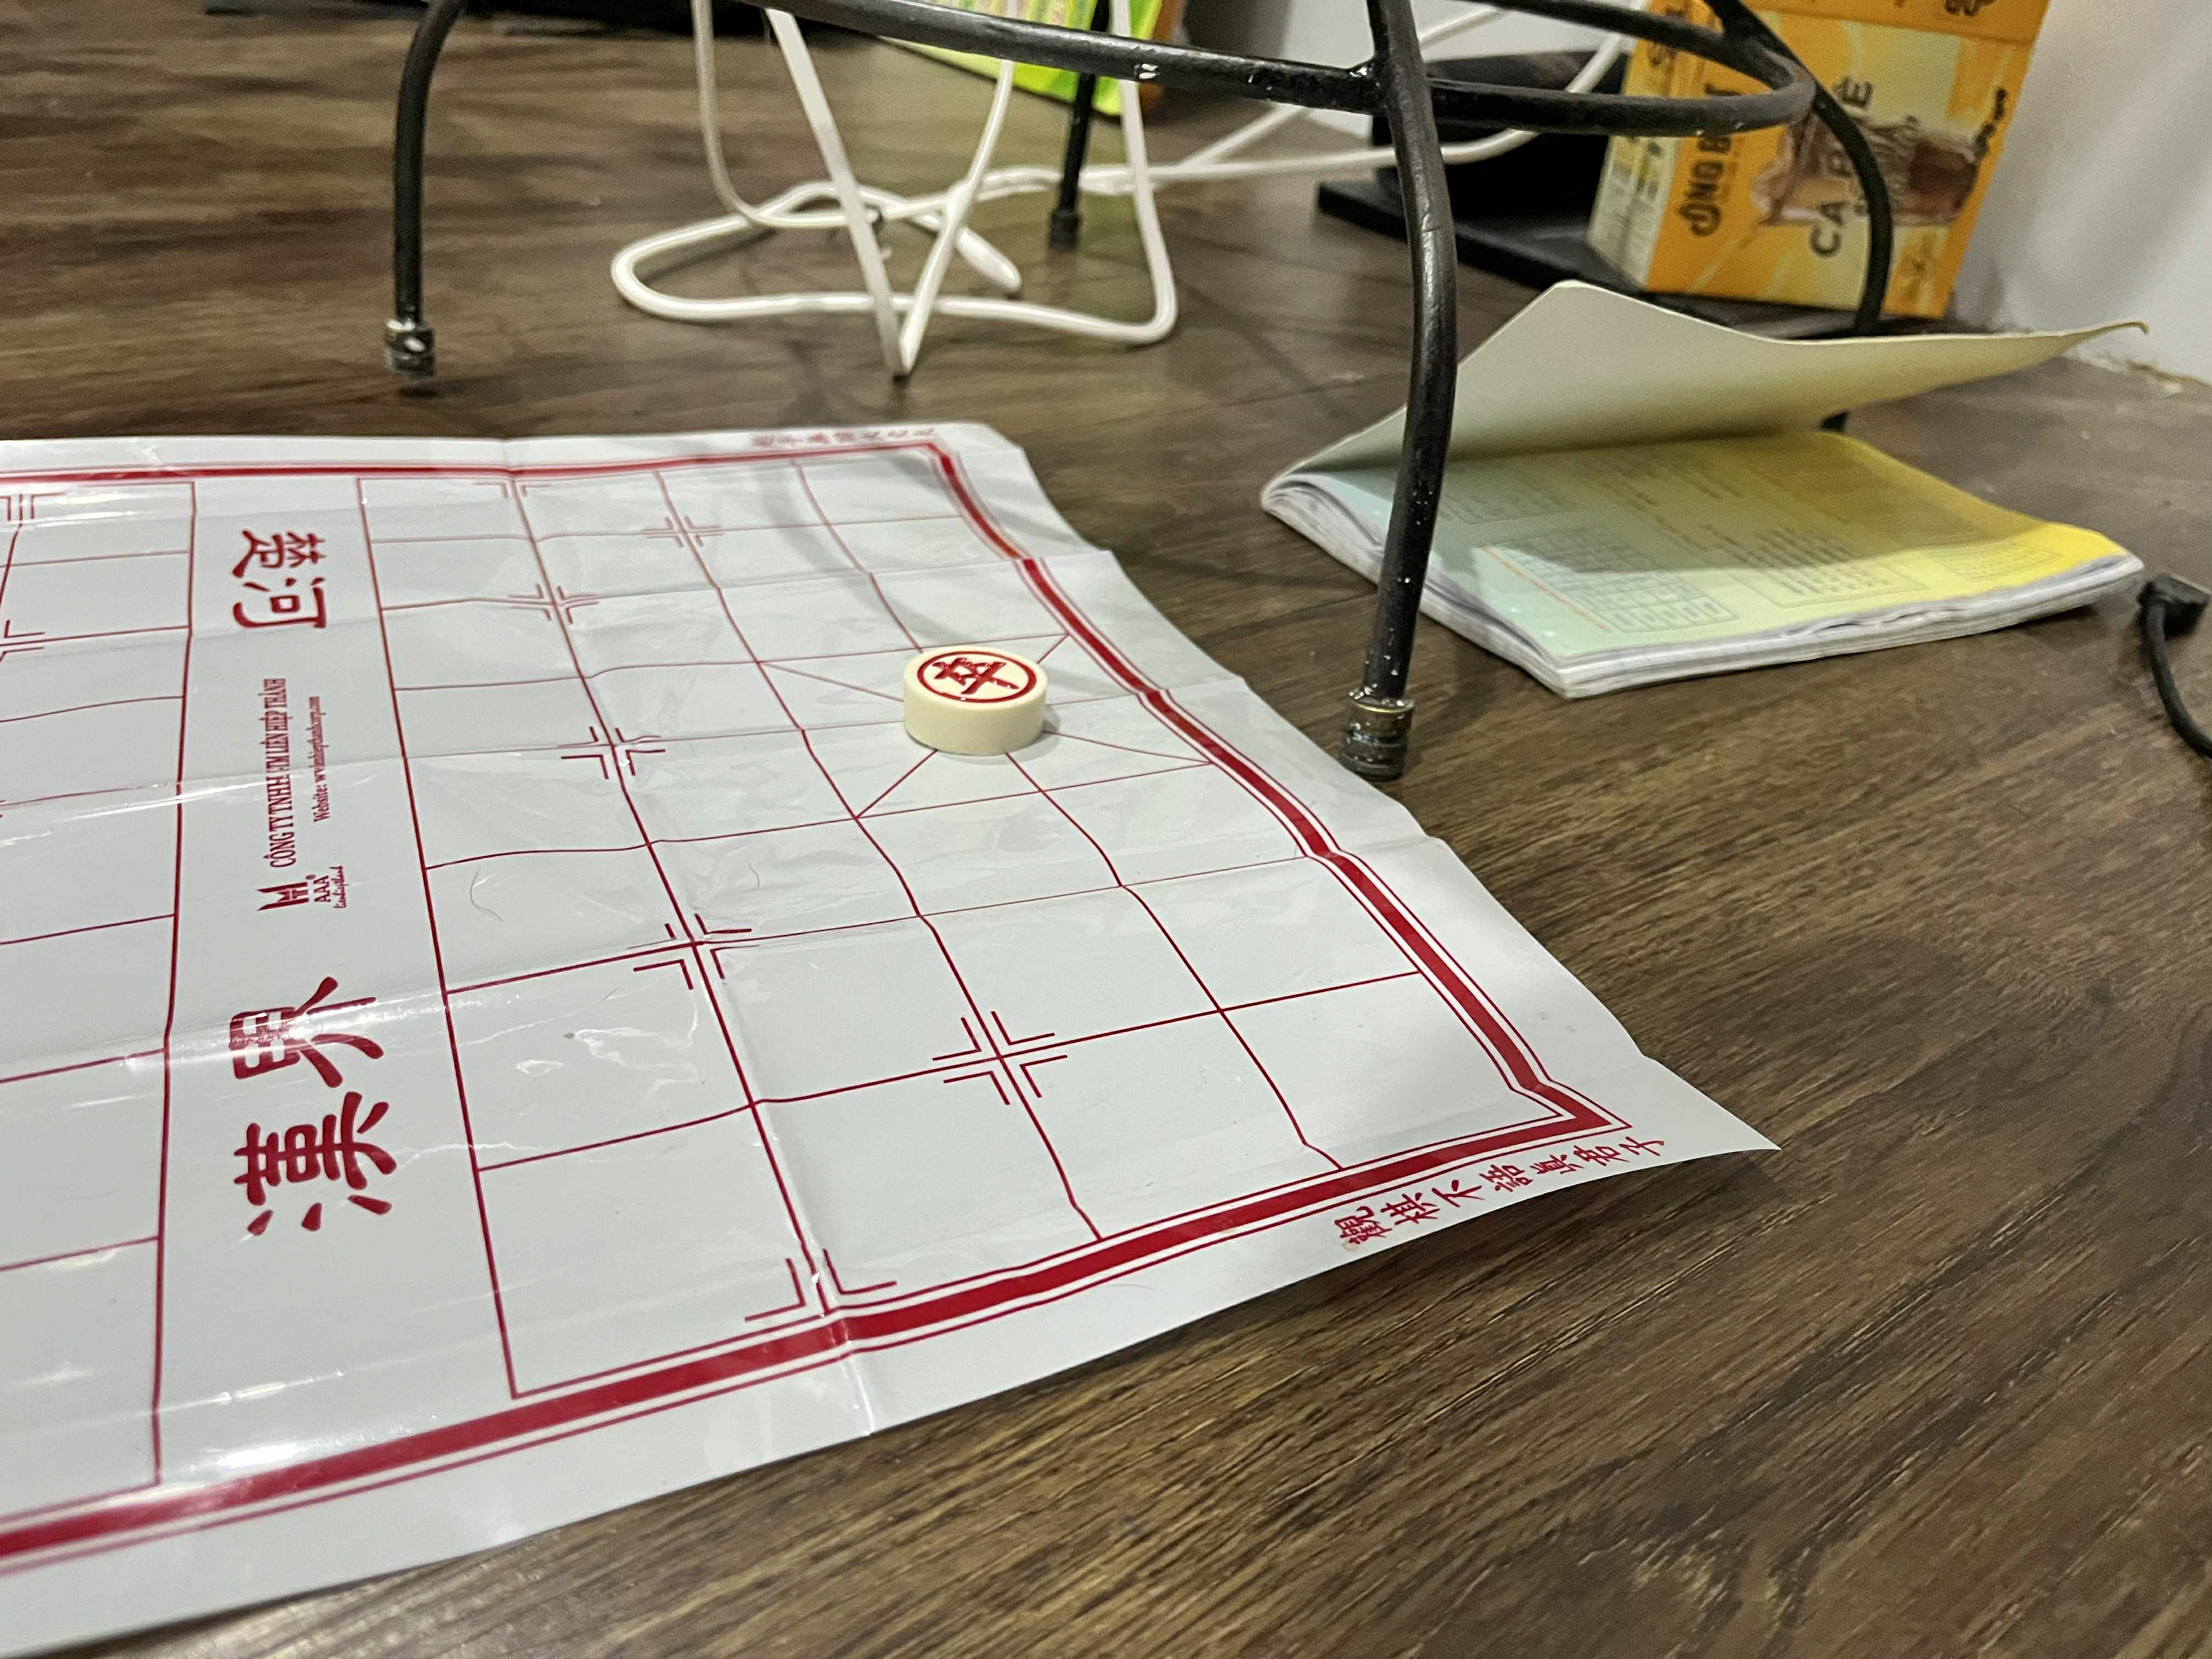red-soldier: (902, 645, 1048, 712)
